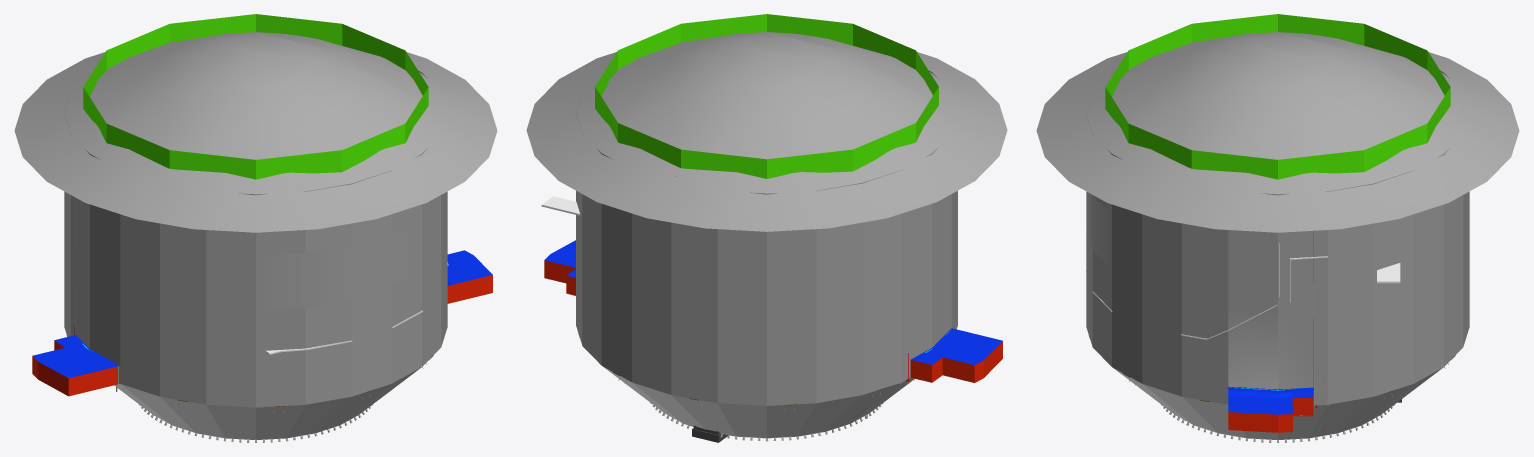
The model's file is TestScene.fbx.
The picture shows the model from 3 angles, left to right: view 1: azimuth 30°, elevation 25°; view 2: azimuth 150°, elevation 25°; view 3: azimuth 270°, elevation 25°; orthographic projection.
Parts seen in each view (by area): view 1: Scene, pDisc1, pTorus1; view 2: Scene, pDisc1, pTorus1; view 3: Scene, pDisc1, pTorus1.
Boxes of the visible parts, left/top/right/bottom form: Scene: left=32, top=71, right=492, bottom=439; pDisc1: left=14, top=32, right=497, bottom=232; pTorus1: left=83, top=14, right=428, bottom=179; Scene: left=544, top=71, right=1002, bottom=438; pDisc1: left=526, top=32, right=1007, bottom=231; pTorus1: left=595, top=14, right=938, bottom=178; Scene: left=1086, top=71, right=1469, bottom=439; pDisc1: left=1036, top=32, right=1519, bottom=232; pTorus1: left=1105, top=14, right=1450, bottom=179.
Size of what is drawn, in the model's own units: 401 by 302 by 385.
